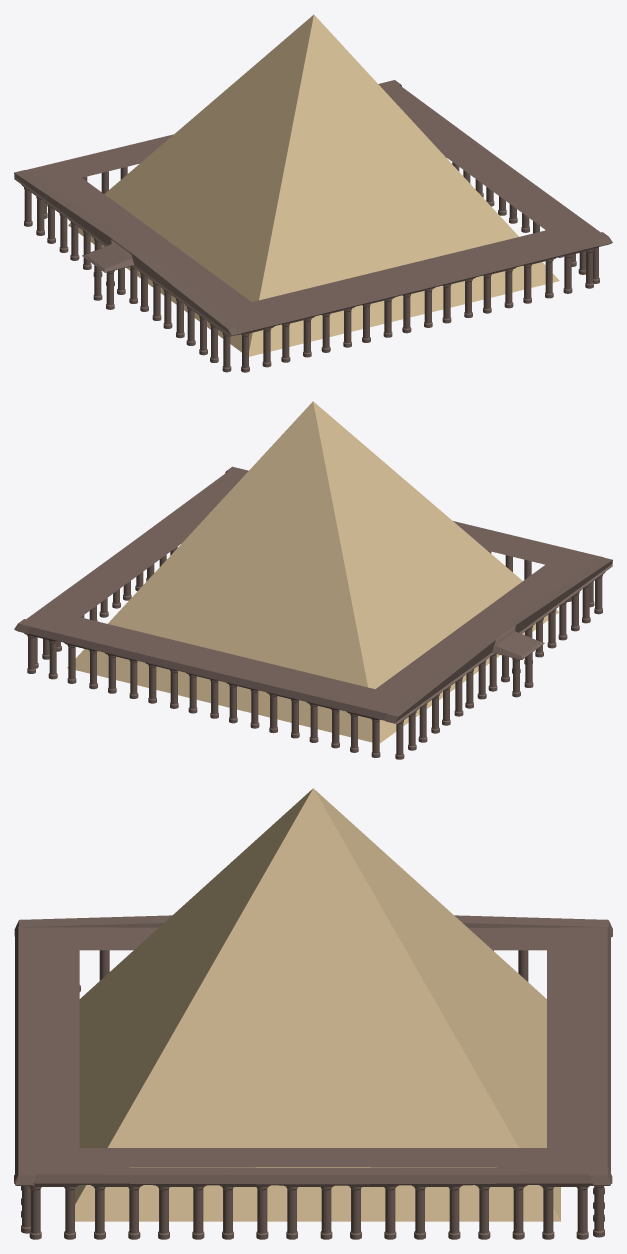
File: Begräbnispyramide.fbx
The picture shows the model from 3 angles, top to bottom: view 1: azimuth 30°, elevation 25°; view 2: azimuth 150°, elevation 25°; view 3: azimuth 270°, elevation 25°; orthographic projection. The views are drawn at different scales.
Parts seen in each view (by area): view 1: Cube.007; view 2: Cube.007; view 3: Cube.007.
Part boxes in pixels (<box>): Cube.007: <box>14,14,612,372</box>; Cube.007: <box>14,401,612,759</box>; Cube.007: <box>14,788,612,1239</box>.
Bounding box in the file's own units: 2745 × 1523 × 2516.
